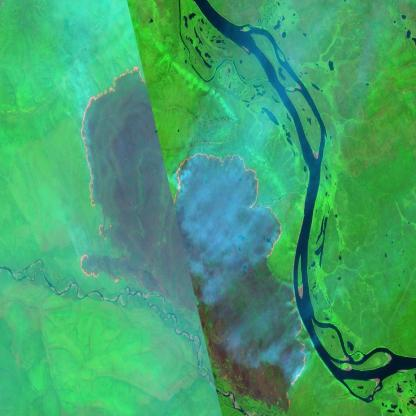fire: (77, 63, 147, 286), (171, 148, 284, 260), (277, 289, 307, 416)
